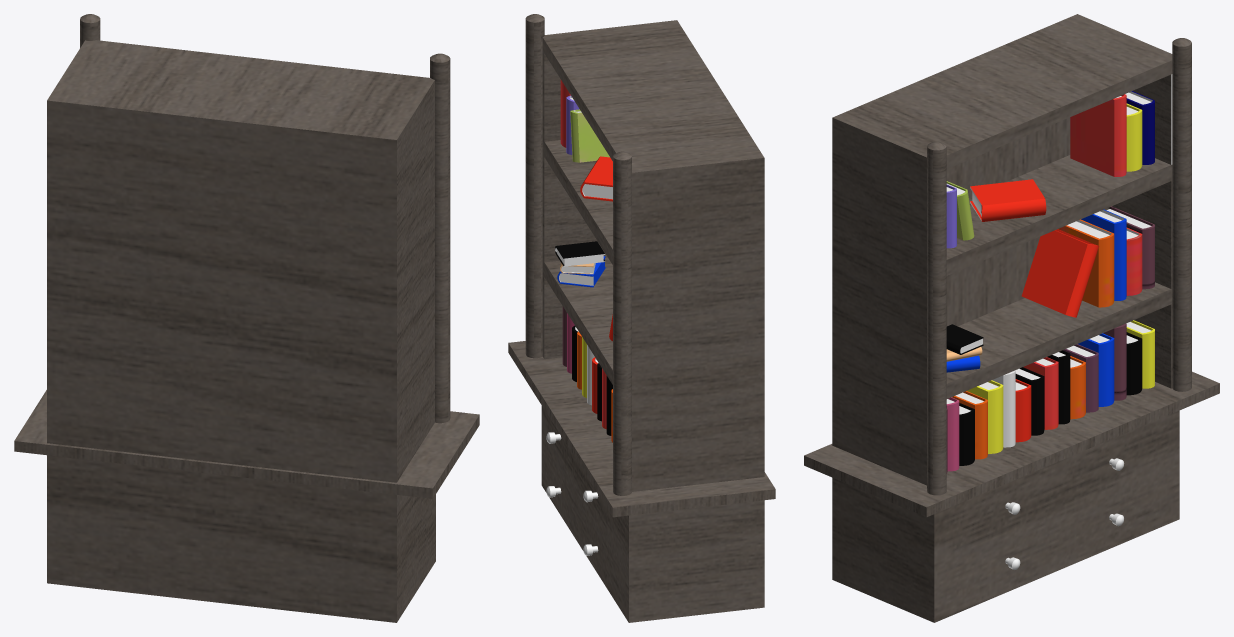
Rendered from pasted__bookshelve6_pCube14.fbx.
3 views of the same model, side by side, from view 1: azimuth 30°, elevation 25°; view 2: azimuth 150°, elevation 25°; view 3: azimuth 270°, elevation 25° (orthographic). The views are drawn at different scales.
Parts seen in each view (by area): view 1: pasted__bookshelve6_pCube14; view 2: pasted__bookshelve6_pCube14; view 3: pasted__bookshelve6_pCube14.
Boxes of the visible parts, <box> form: pasted__bookshelve6_pCube14: <box>14,14,479,622</box>; pasted__bookshelve6_pCube14: <box>508,14,775,622</box>; pasted__bookshelve6_pCube14: <box>804,14,1219,622</box>.
Bounding box in the file's own units: 344 × 440 × 344.
